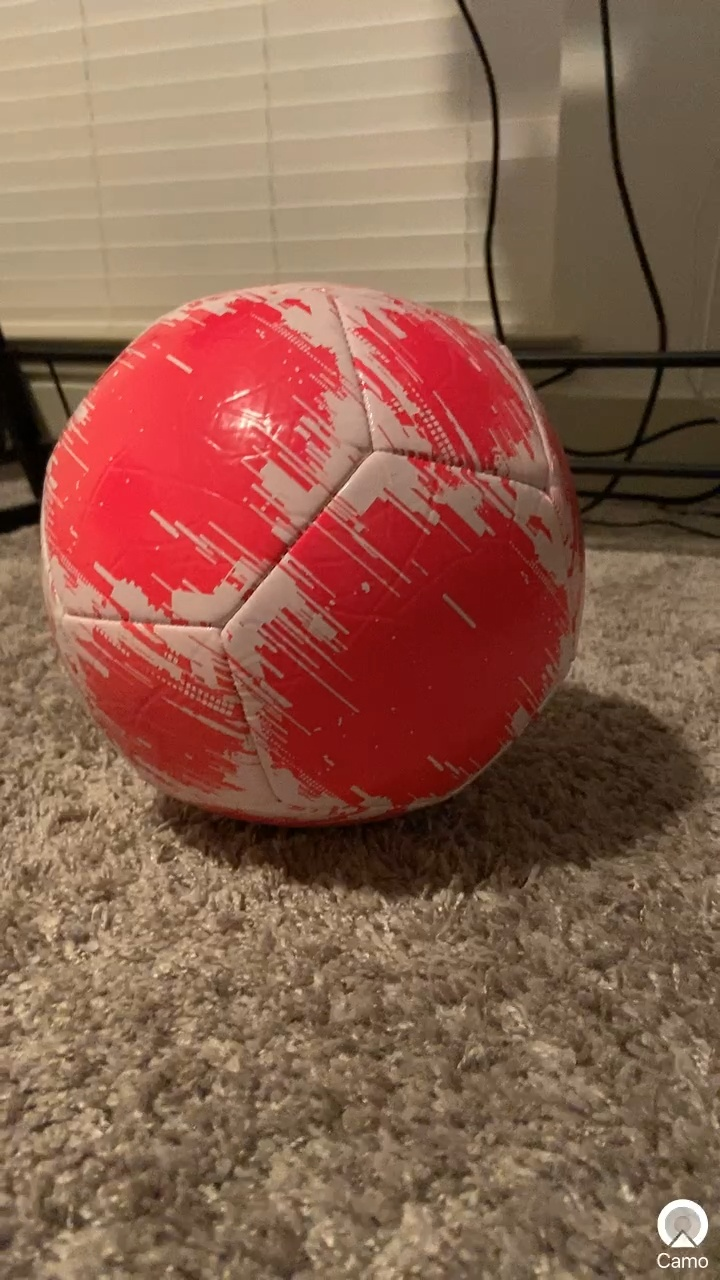Soccer_Ball: (34, 275, 620, 851)
